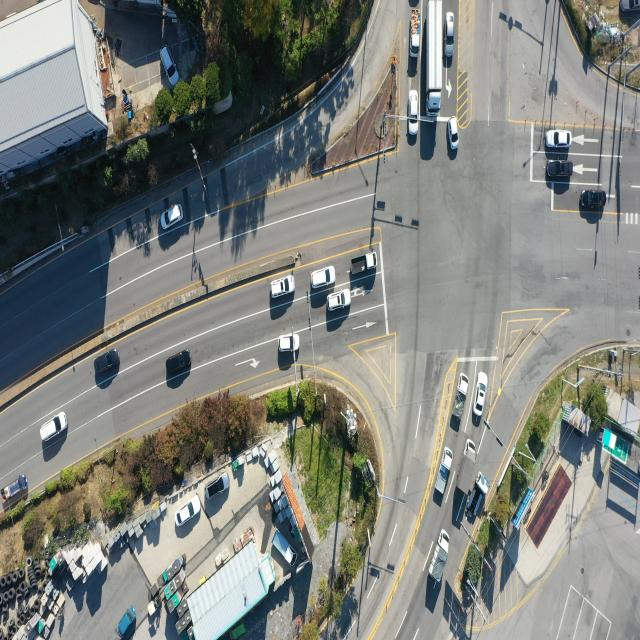car: (157, 41, 178, 83), (42, 412, 68, 444), (176, 498, 200, 528), (165, 351, 192, 376), (94, 350, 121, 374), (208, 476, 230, 502), (163, 205, 184, 231), (311, 267, 335, 289), (476, 371, 488, 415), (582, 188, 608, 208), (409, 90, 420, 136), (547, 130, 572, 150), (327, 290, 351, 310), (548, 159, 572, 177), (278, 334, 299, 354), (446, 12, 454, 56), (450, 117, 460, 149), (621, 0, 640, 13)
medium_truck: (425, 1, 443, 113)
small_truck: (462, 475, 490, 524), (428, 530, 450, 585), (455, 441, 477, 494), (451, 374, 469, 424), (437, 448, 455, 497), (271, 538, 294, 570), (3, 475, 28, 502), (349, 253, 376, 276), (271, 276, 296, 298), (117, 606, 135, 636), (411, 13, 420, 57)
